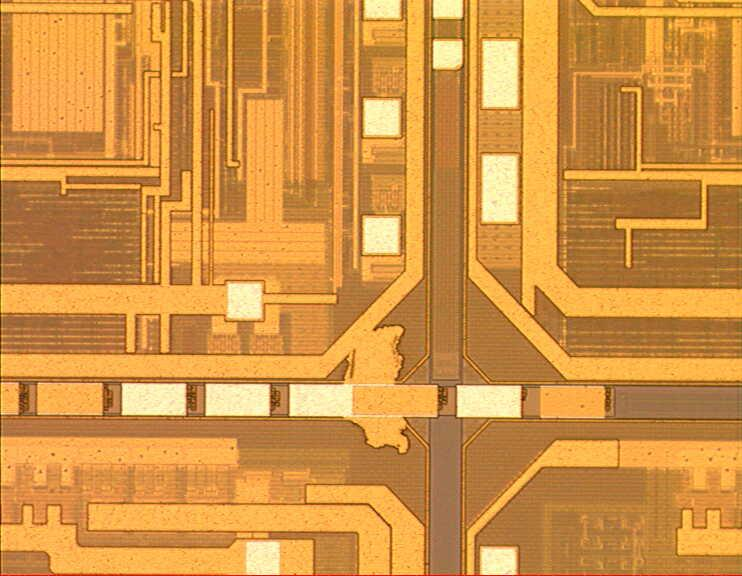BLOCK ETCH: (339, 326, 410, 455)
